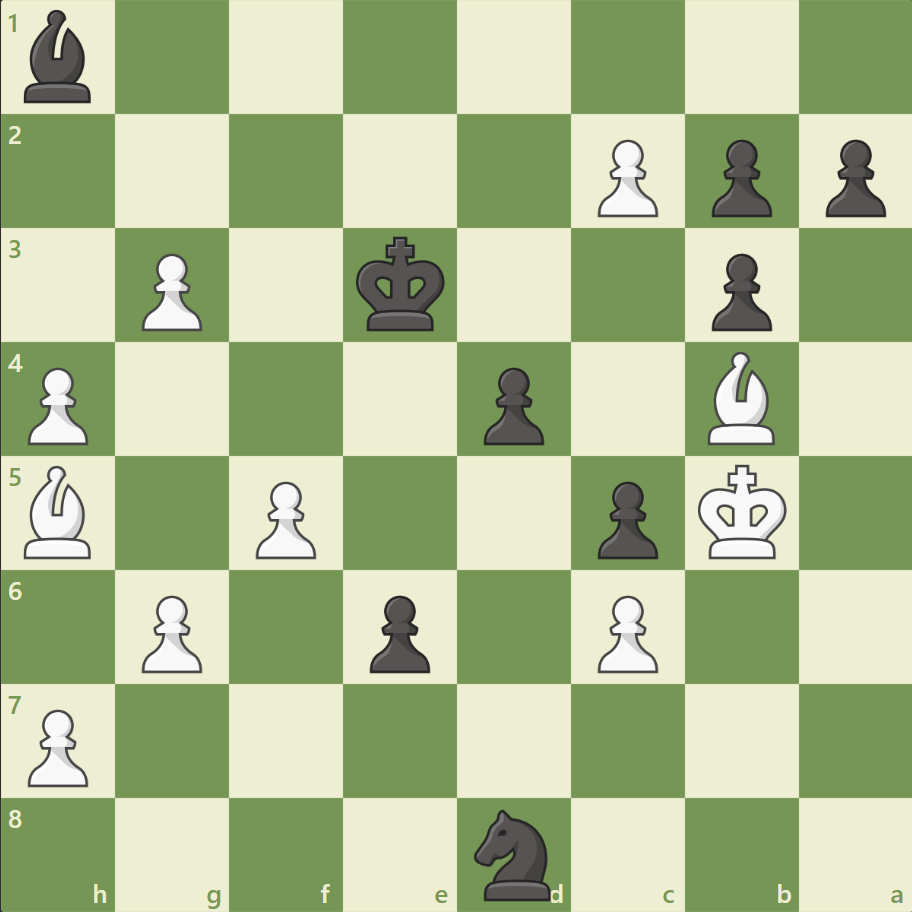B: (17, 460, 101, 563), (698, 347, 782, 449)
K: (692, 458, 792, 566)
P: (20, 700, 95, 791), (133, 586, 208, 677), (247, 473, 322, 564), (20, 359, 95, 450), (133, 246, 208, 337), (588, 586, 662, 677), (588, 132, 662, 223)
b: (17, 6, 101, 109)
k: (351, 231, 451, 339)
n: (465, 802, 562, 904)
p: (474, 359, 549, 450), (701, 246, 776, 337), (701, 132, 776, 223), (361, 586, 435, 677), (588, 473, 662, 564), (815, 132, 889, 223)
